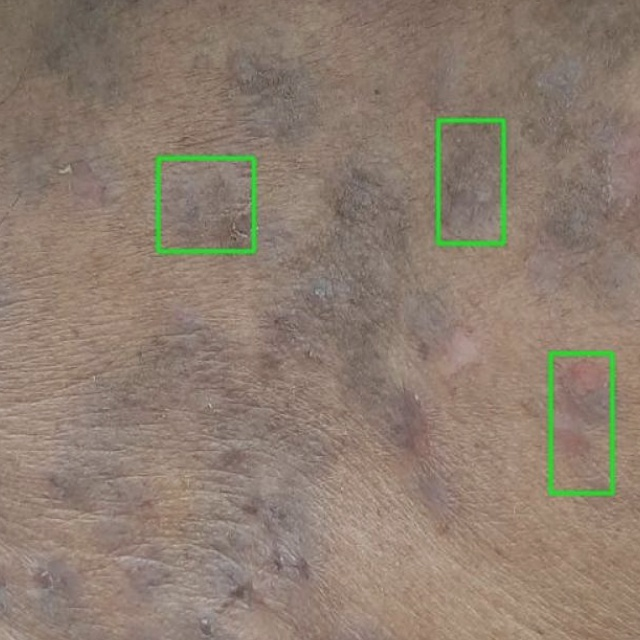Contact Dermatitis: (158, 158, 254, 251), (551, 353, 612, 493), (438, 120, 503, 243)
